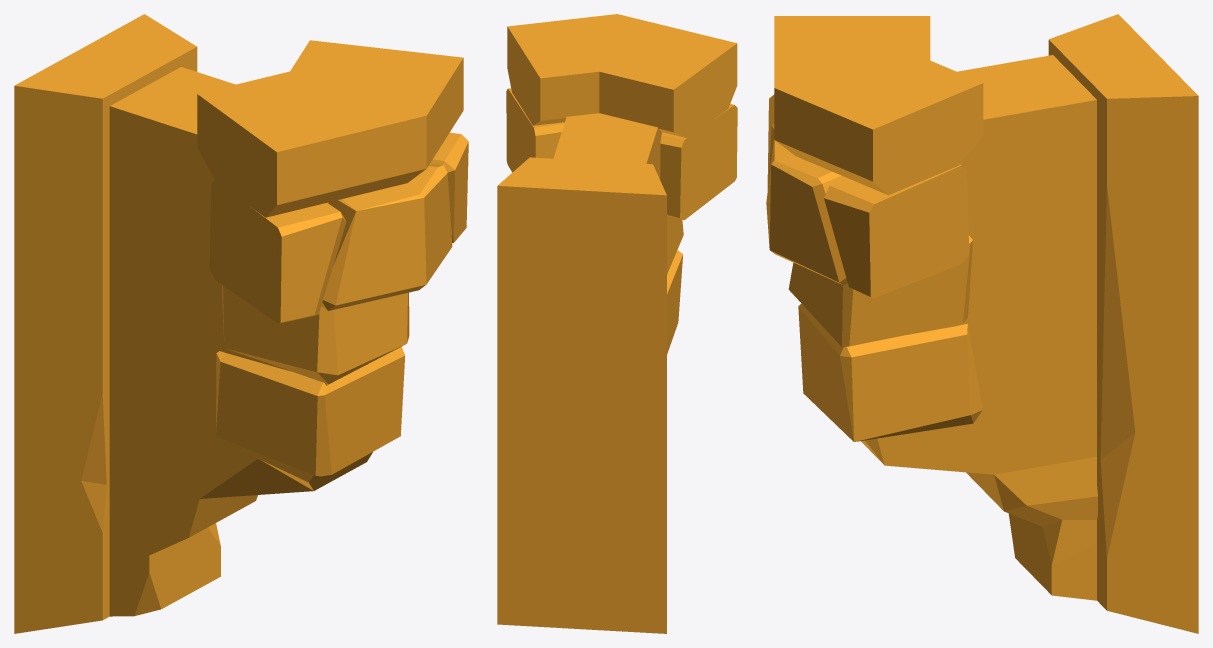
The model's file is SM_Machicolations_Corner_Diagonal_A_Fantasy.fbx.
3 views of the same model, side by side, from view 1: azimuth 30°, elevation 25°; view 2: azimuth 150°, elevation 25°; view 3: azimuth 270°, elevation 25° (orthographic). The views are drawn at different scales.
Parts seen in each view (by area): view 1: SM_Machicolations_Corner_Diagonal_A_Fantasy; view 2: SM_Machicolations_Corner_Diagonal_A_Fantasy; view 3: SM_Machicolations_Corner_Diagonal_A_Fantasy.
Boxes of the visible parts, left/top/right/bottom form: SM_Machicolations_Corner_Diagonal_A_Fantasy: left=14, top=14, right=468, bottom=633; SM_Machicolations_Corner_Diagonal_A_Fantasy: left=497, top=14, right=737, bottom=633; SM_Machicolations_Corner_Diagonal_A_Fantasy: left=766, top=14, right=1198, bottom=633.
Size of the model in its own units: 1.29 by 2.21 by 1.5.
